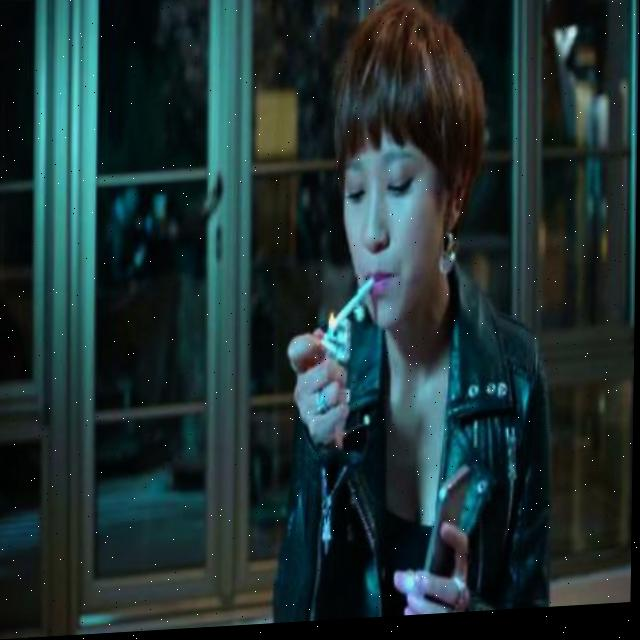cigarette: (333, 281, 375, 336)
